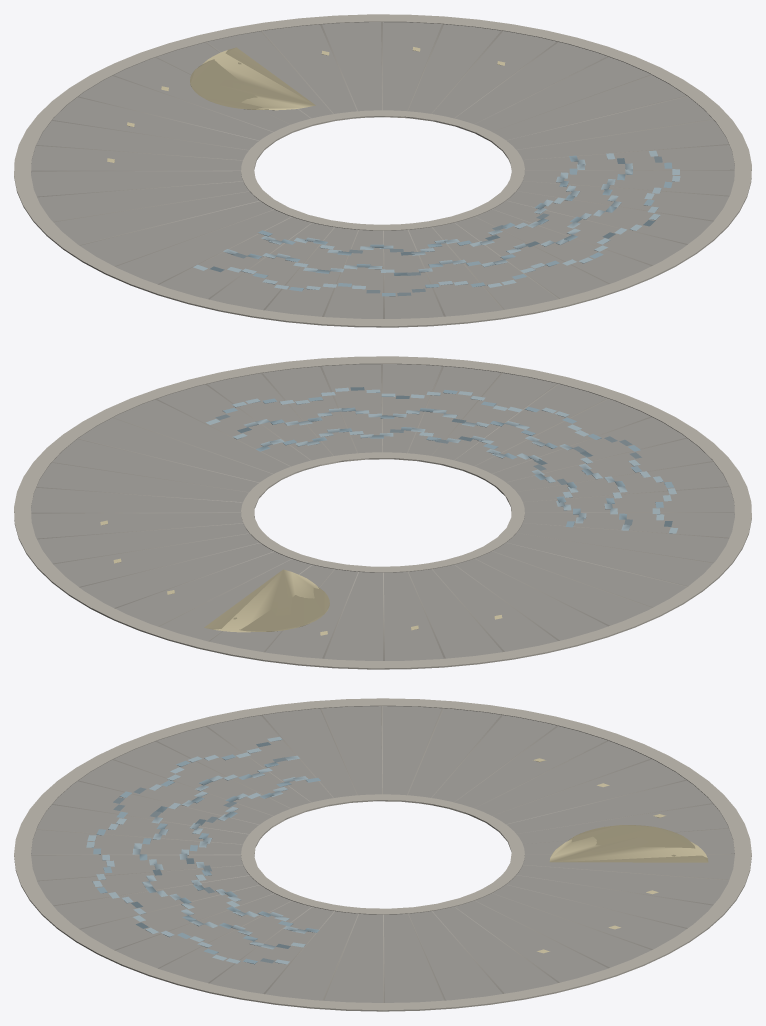
The model's file is plaza_medallion_low.glb.
The picture shows the model from 3 angles, top to bottom: view 1: azimuth 30°, elevation 25°; view 2: azimuth 150°, elevation 25°; view 3: azimuth 270°, elevation 25°; orthographic projection.
Bounding box in the file's own units: 19.5 × 0.0399 × 19.5.
